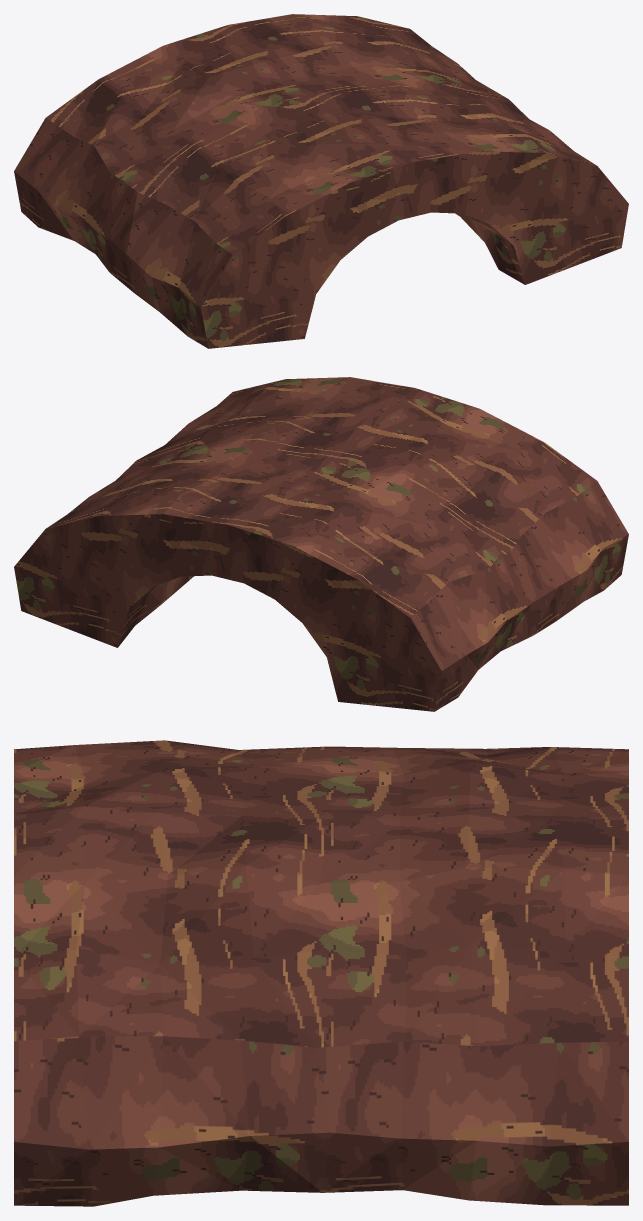
Rendered from SM_AN03_CeilingVault.fbx.
3 renders of one model, top to bottom at view 1: azimuth 30°, elevation 25°; view 2: azimuth 150°, elevation 25°; view 3: azimuth 270°, elevation 25°, orthographic. The views are drawn at different scales.
Parts seen in each view (by area): view 1: AN03a_Earth; view 2: AN03a_Earth; view 3: AN03a_Earth.
Boxes of the visible parts, x1,y1,x2,y2 form: AN03a_Earth: [14, 14, 628, 348]; AN03a_Earth: [14, 377, 628, 711]; AN03a_Earth: [14, 740, 628, 1206].
Size of the model in its own units: 5.37 by 1.83 by 4.
